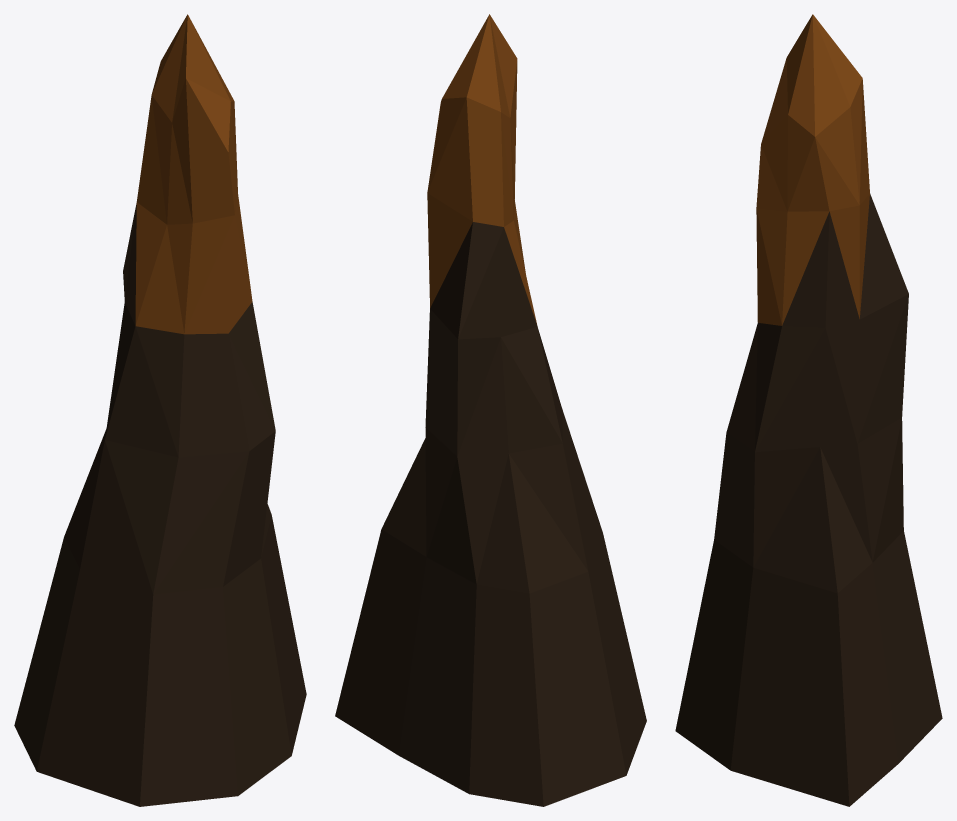
Rendered from Island_B01_Spike2_Light_Model.fbx.
3 views of the same model, side by side, from view 1: azimuth 30°, elevation 25°; view 2: azimuth 150°, elevation 25°; view 3: azimuth 270°, elevation 25° (orthographic).
Visible parts, largest first — view 1: Spike_02; view 2: Spike_02; view 3: Spike_02.
Boxes of the visible parts, <box> form: Spike_02: <box>14,14,306,806</box>; Spike_02: <box>335,14,646,806</box>; Spike_02: <box>675,14,942,806</box>.
Size of the model in its own units: 15.2 by 37.49 by 12.5.
